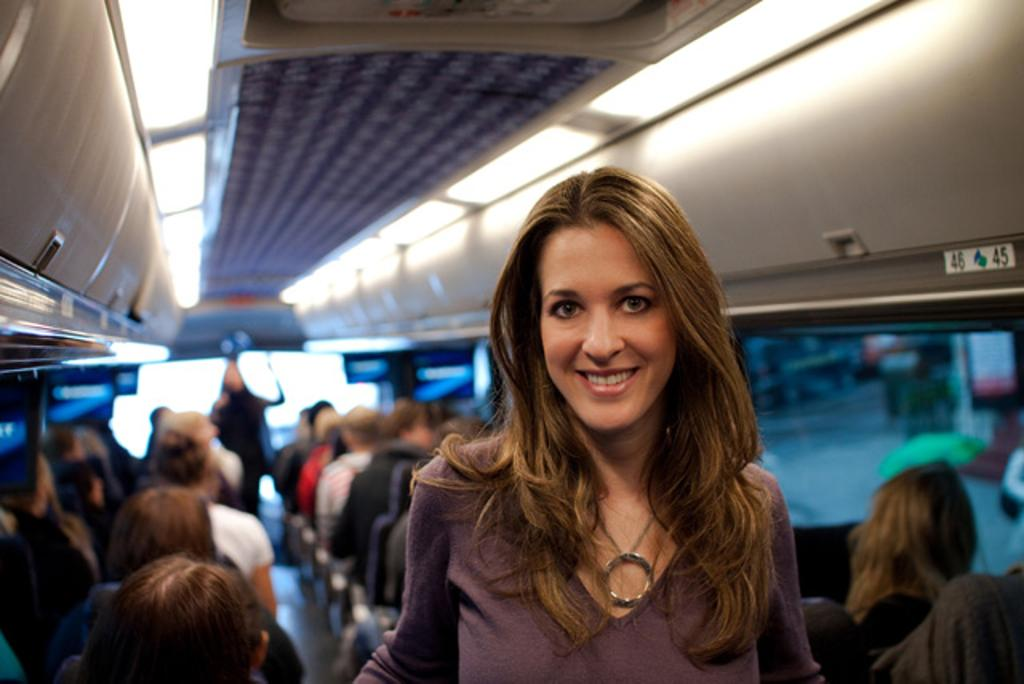face: (542, 218, 672, 426)
